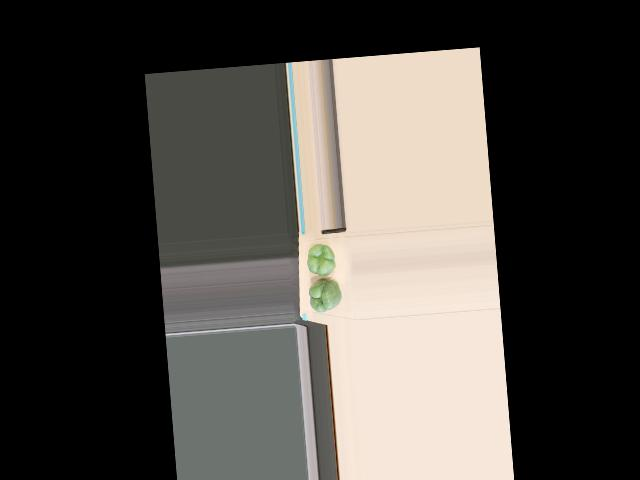bell_pepper: (305, 243, 340, 278)
